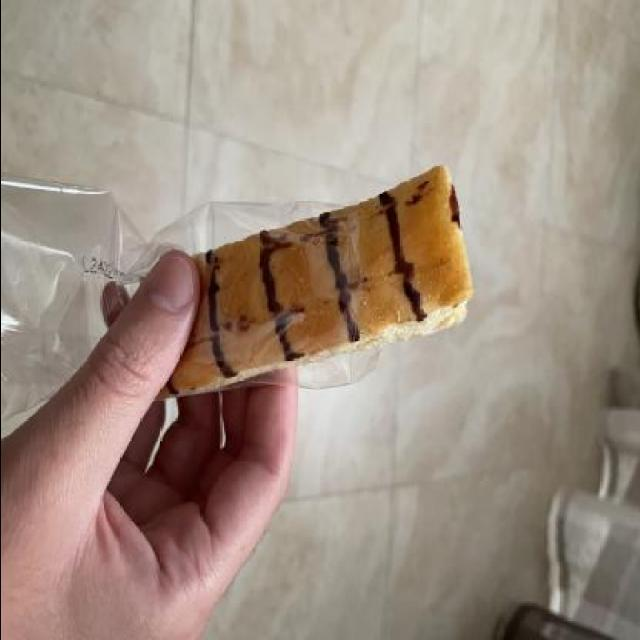Merendine packaged: (138, 164, 474, 408)
